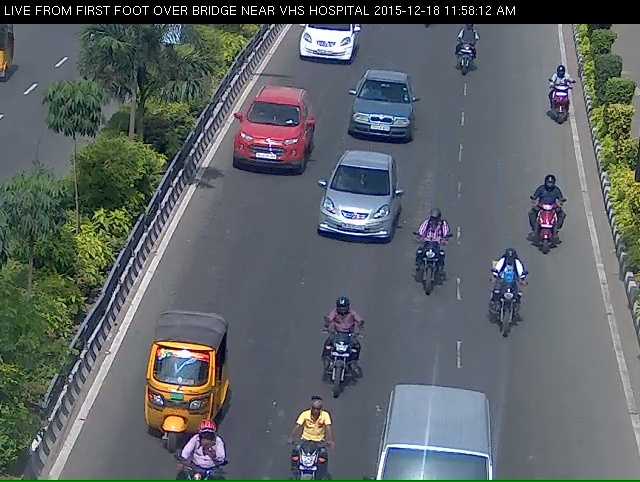Auto: (130, 341, 212, 477)
Car: (315, 168, 389, 255), (235, 94, 302, 183), (349, 79, 416, 154), (290, 21, 357, 72)
Person: (314, 318, 356, 419), (524, 186, 572, 271), (406, 229, 449, 314), (485, 266, 527, 353), (537, 67, 576, 136), (449, 34, 480, 84)
